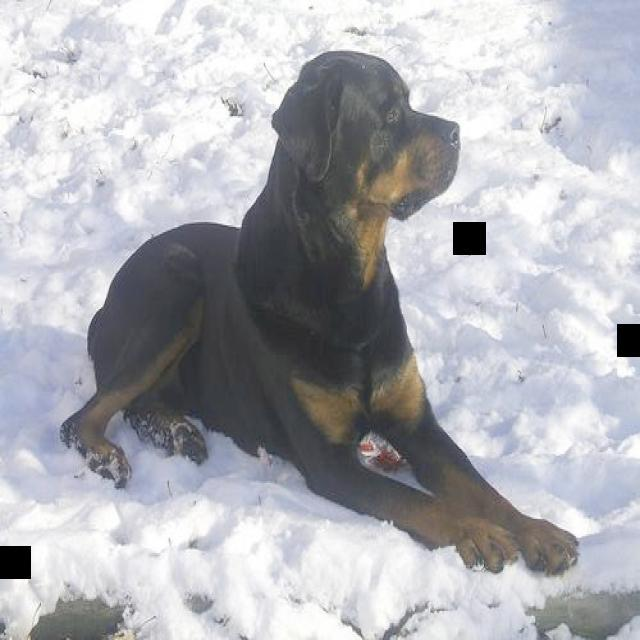adult_dog: (62, 49, 581, 580)
